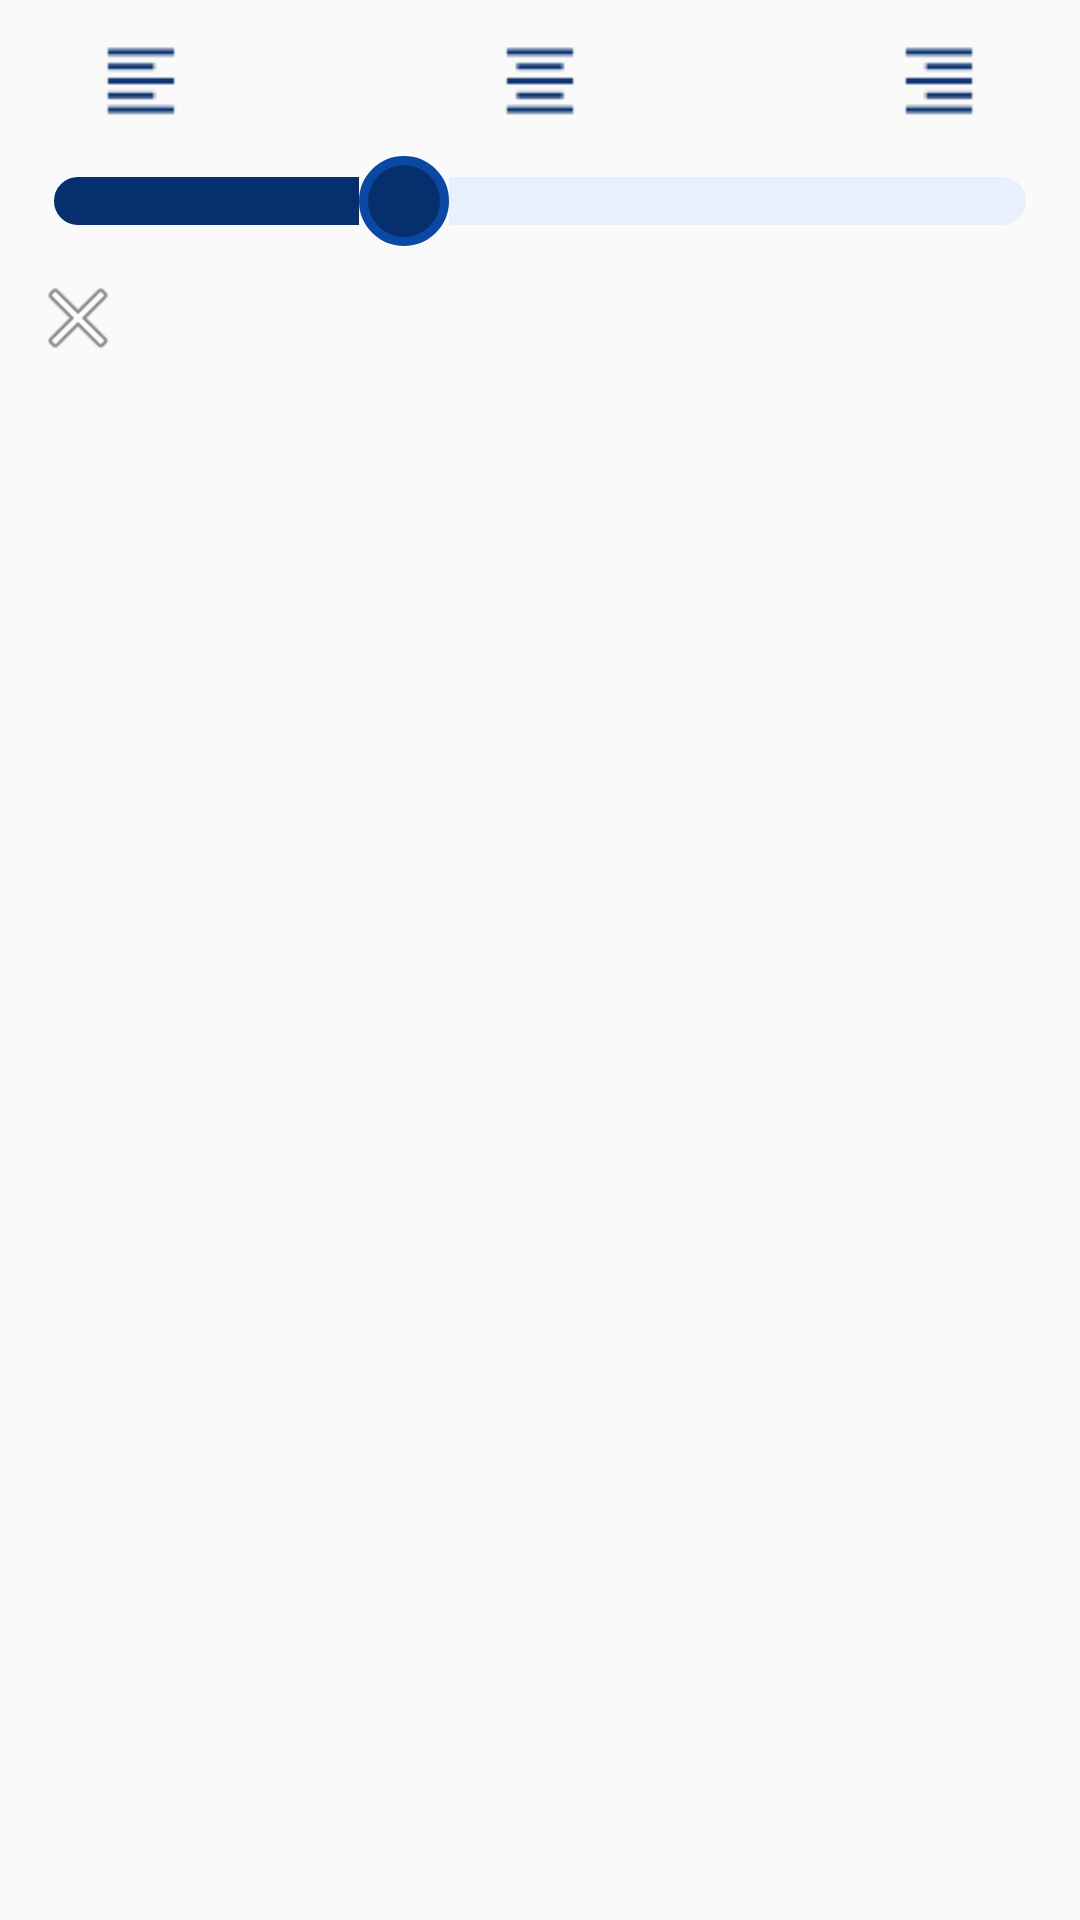

Screen size 1080px x 1920px. Icon name, then its center in pixels as (x,y):
close clear cancel: (78,318)
qcenter: (540,81)
qleft: (141,81)
qright: (939,81)
